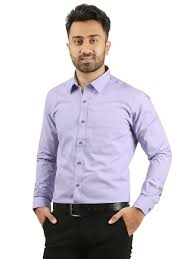F_belt: (48, 198, 136, 217)
F_dress pants: (36, 207, 135, 259)
F_shirt: (22, 65, 177, 215)
